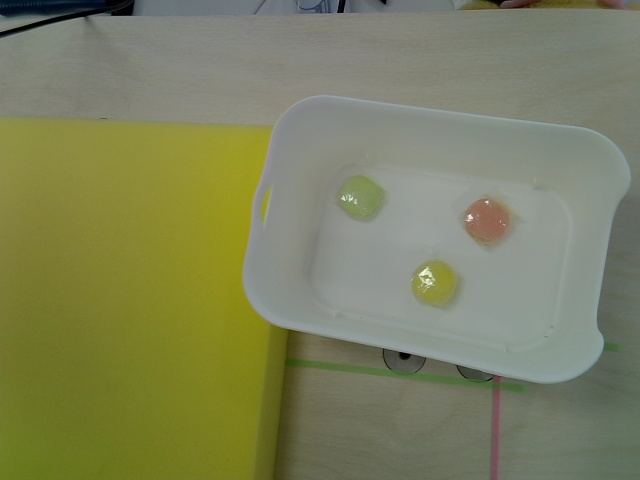씨앗: (410, 259, 463, 310), (462, 197, 515, 247), (336, 173, 386, 223)
